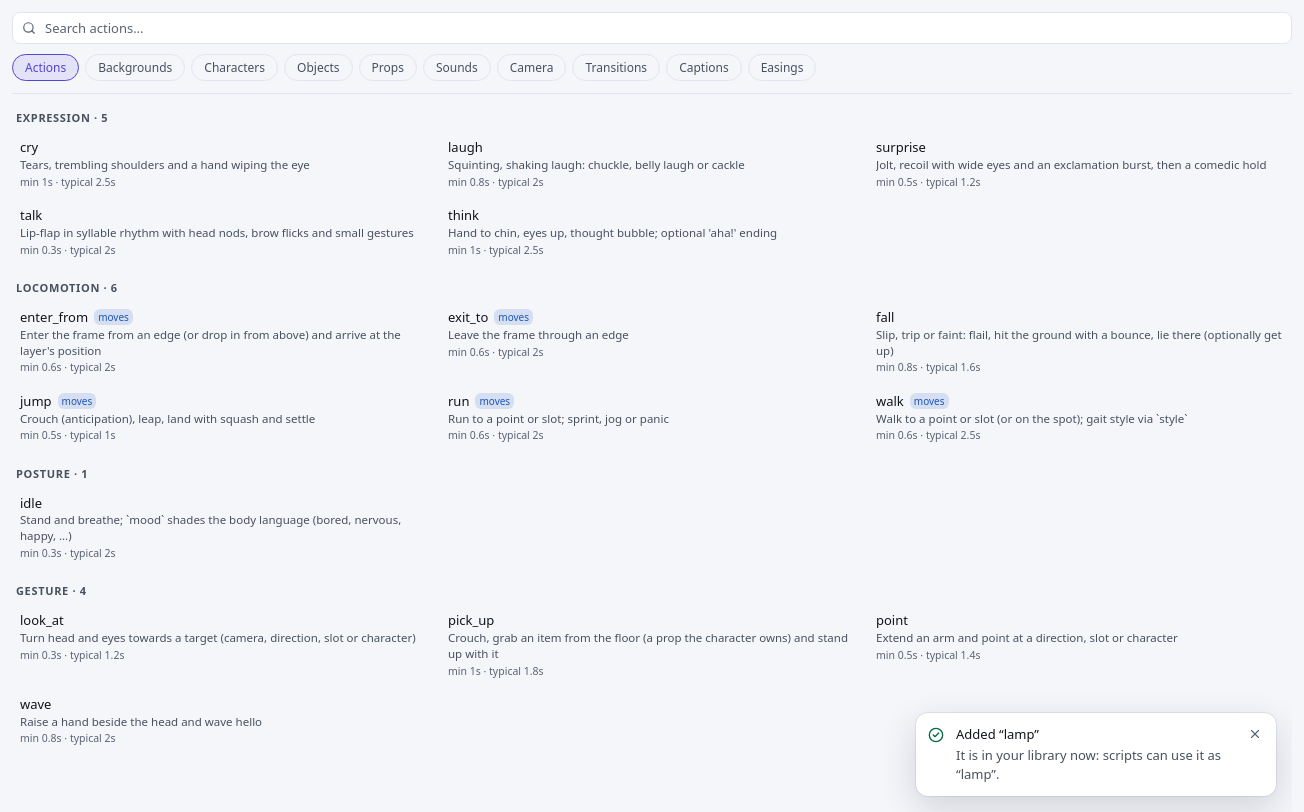
Scenario: the Objects section in the studio › on the library page itself (no project) lists objects as cards with nothing to add or drag
Click the tab "Objects".
click(318, 68)  # box [284,54,353,81]
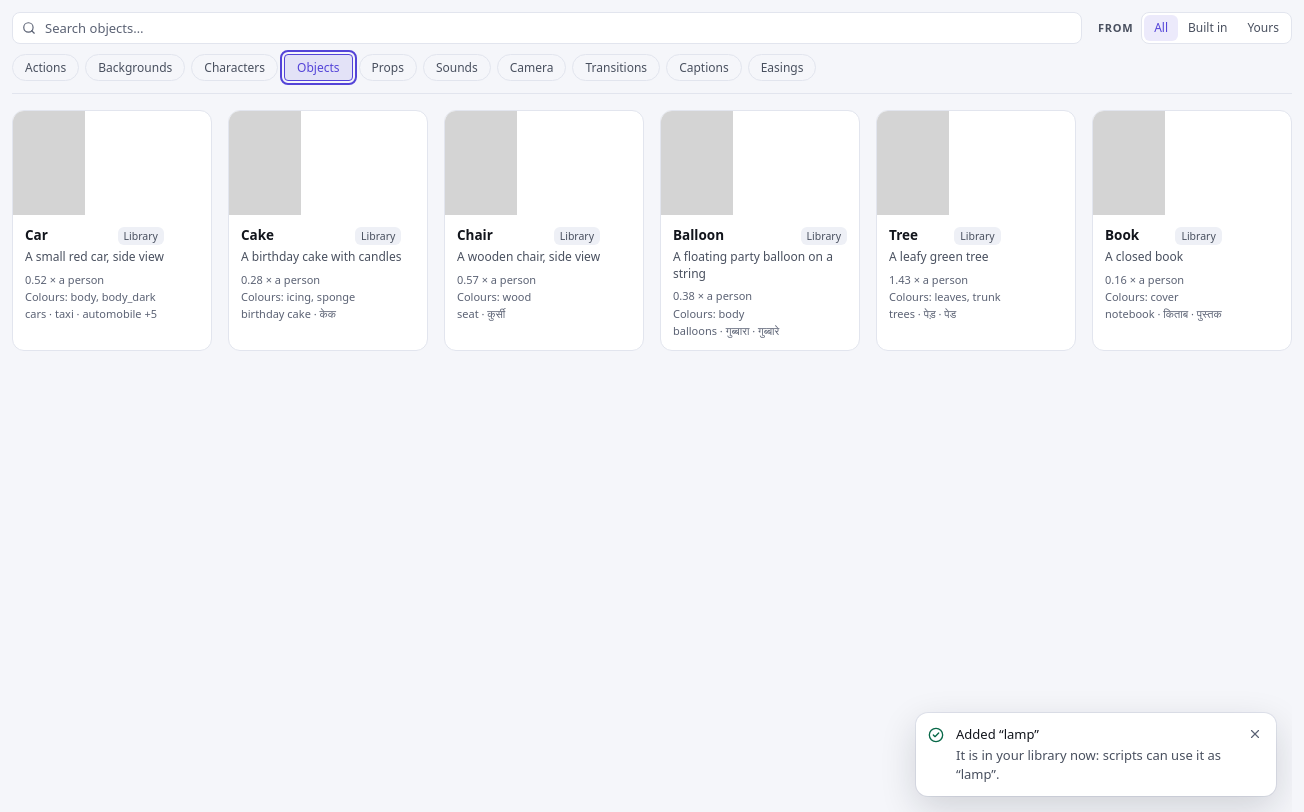
Expected: the text "cake" is shown, [241,227,274,244]
